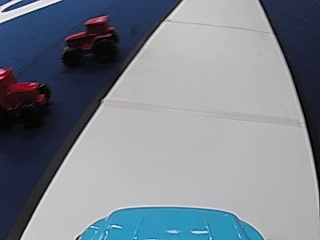tractor: (0, 64, 49, 129), (60, 13, 117, 68)
